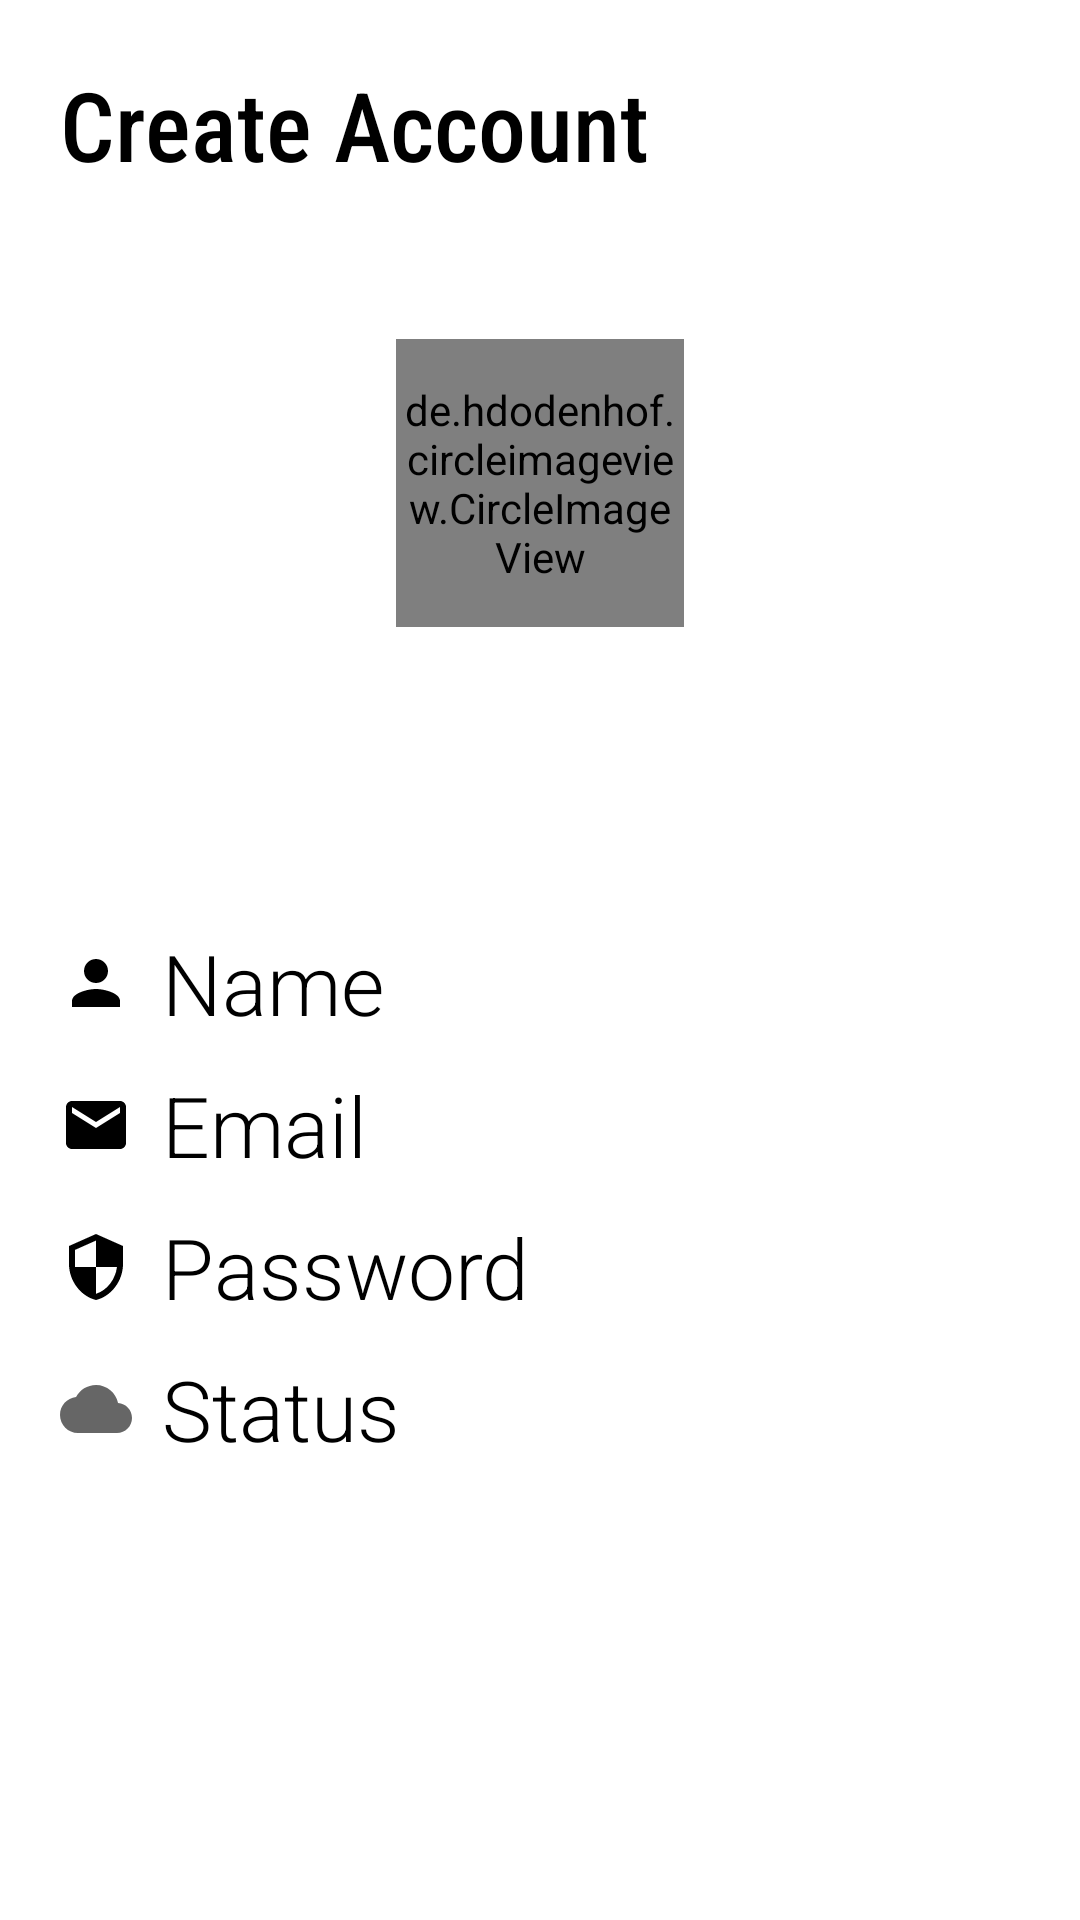

Where to tap for icons on this 1080x1920 app screen, as [x,y]:
person: [96,983]
